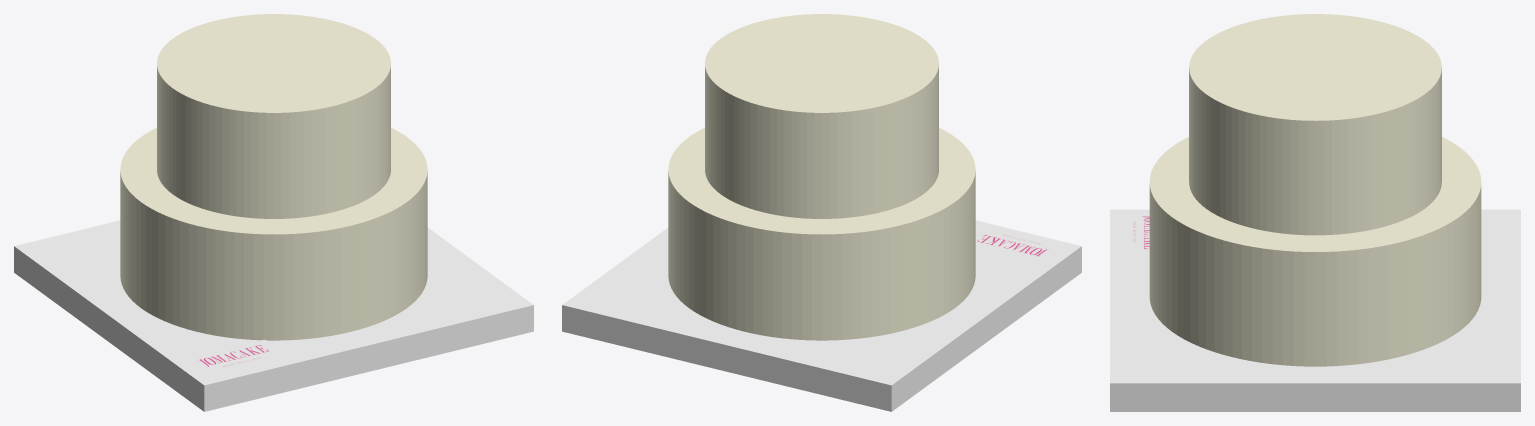
File: cake_tier2_8-6_layers2_v44.glb
The picture shows the model from 3 angles, left to right: view 1: azimuth 30°, elevation 25°; view 2: azimuth 150°, elevation 25°; view 3: azimuth 270°, elevation 25°; orthographic projection. The views are drawn at different scales.
Visible parts, largest first — view 1: Tier1, Tier0, Board, Logo; view 2: Tier1, Tier0, Board, Logo; view 3: Tier1, Tier0, Board, Logo.
Boxes of the visible parts, x1=… form: Tier1: x1=157, y1=14, x2=390, y2=218; Tier0: x1=120, y1=127, x2=427, y2=340; Board: x1=14, y1=220, x2=533, y2=411; Logo: x1=186, y1=339, x2=287, y2=375; Tier1: x1=705, y1=14, x2=938, y2=218; Tier0: x1=668, y1=127, x2=975, y2=340; Board: x1=562, y1=220, x2=1081, y2=411; Logo: x1=975, y1=225, x2=1065, y2=261; Tier1: x1=1189, y1=14, x2=1441, y2=235; Tier0: x1=1149, y1=137, x2=1481, y2=366; Board: x1=1110, y1=209, x2=1520, y2=411; Logo: x1=1122, y1=211, x2=1149, y2=253.
Size of the model in its own units: 0.26 by 0.18 by 0.26.
